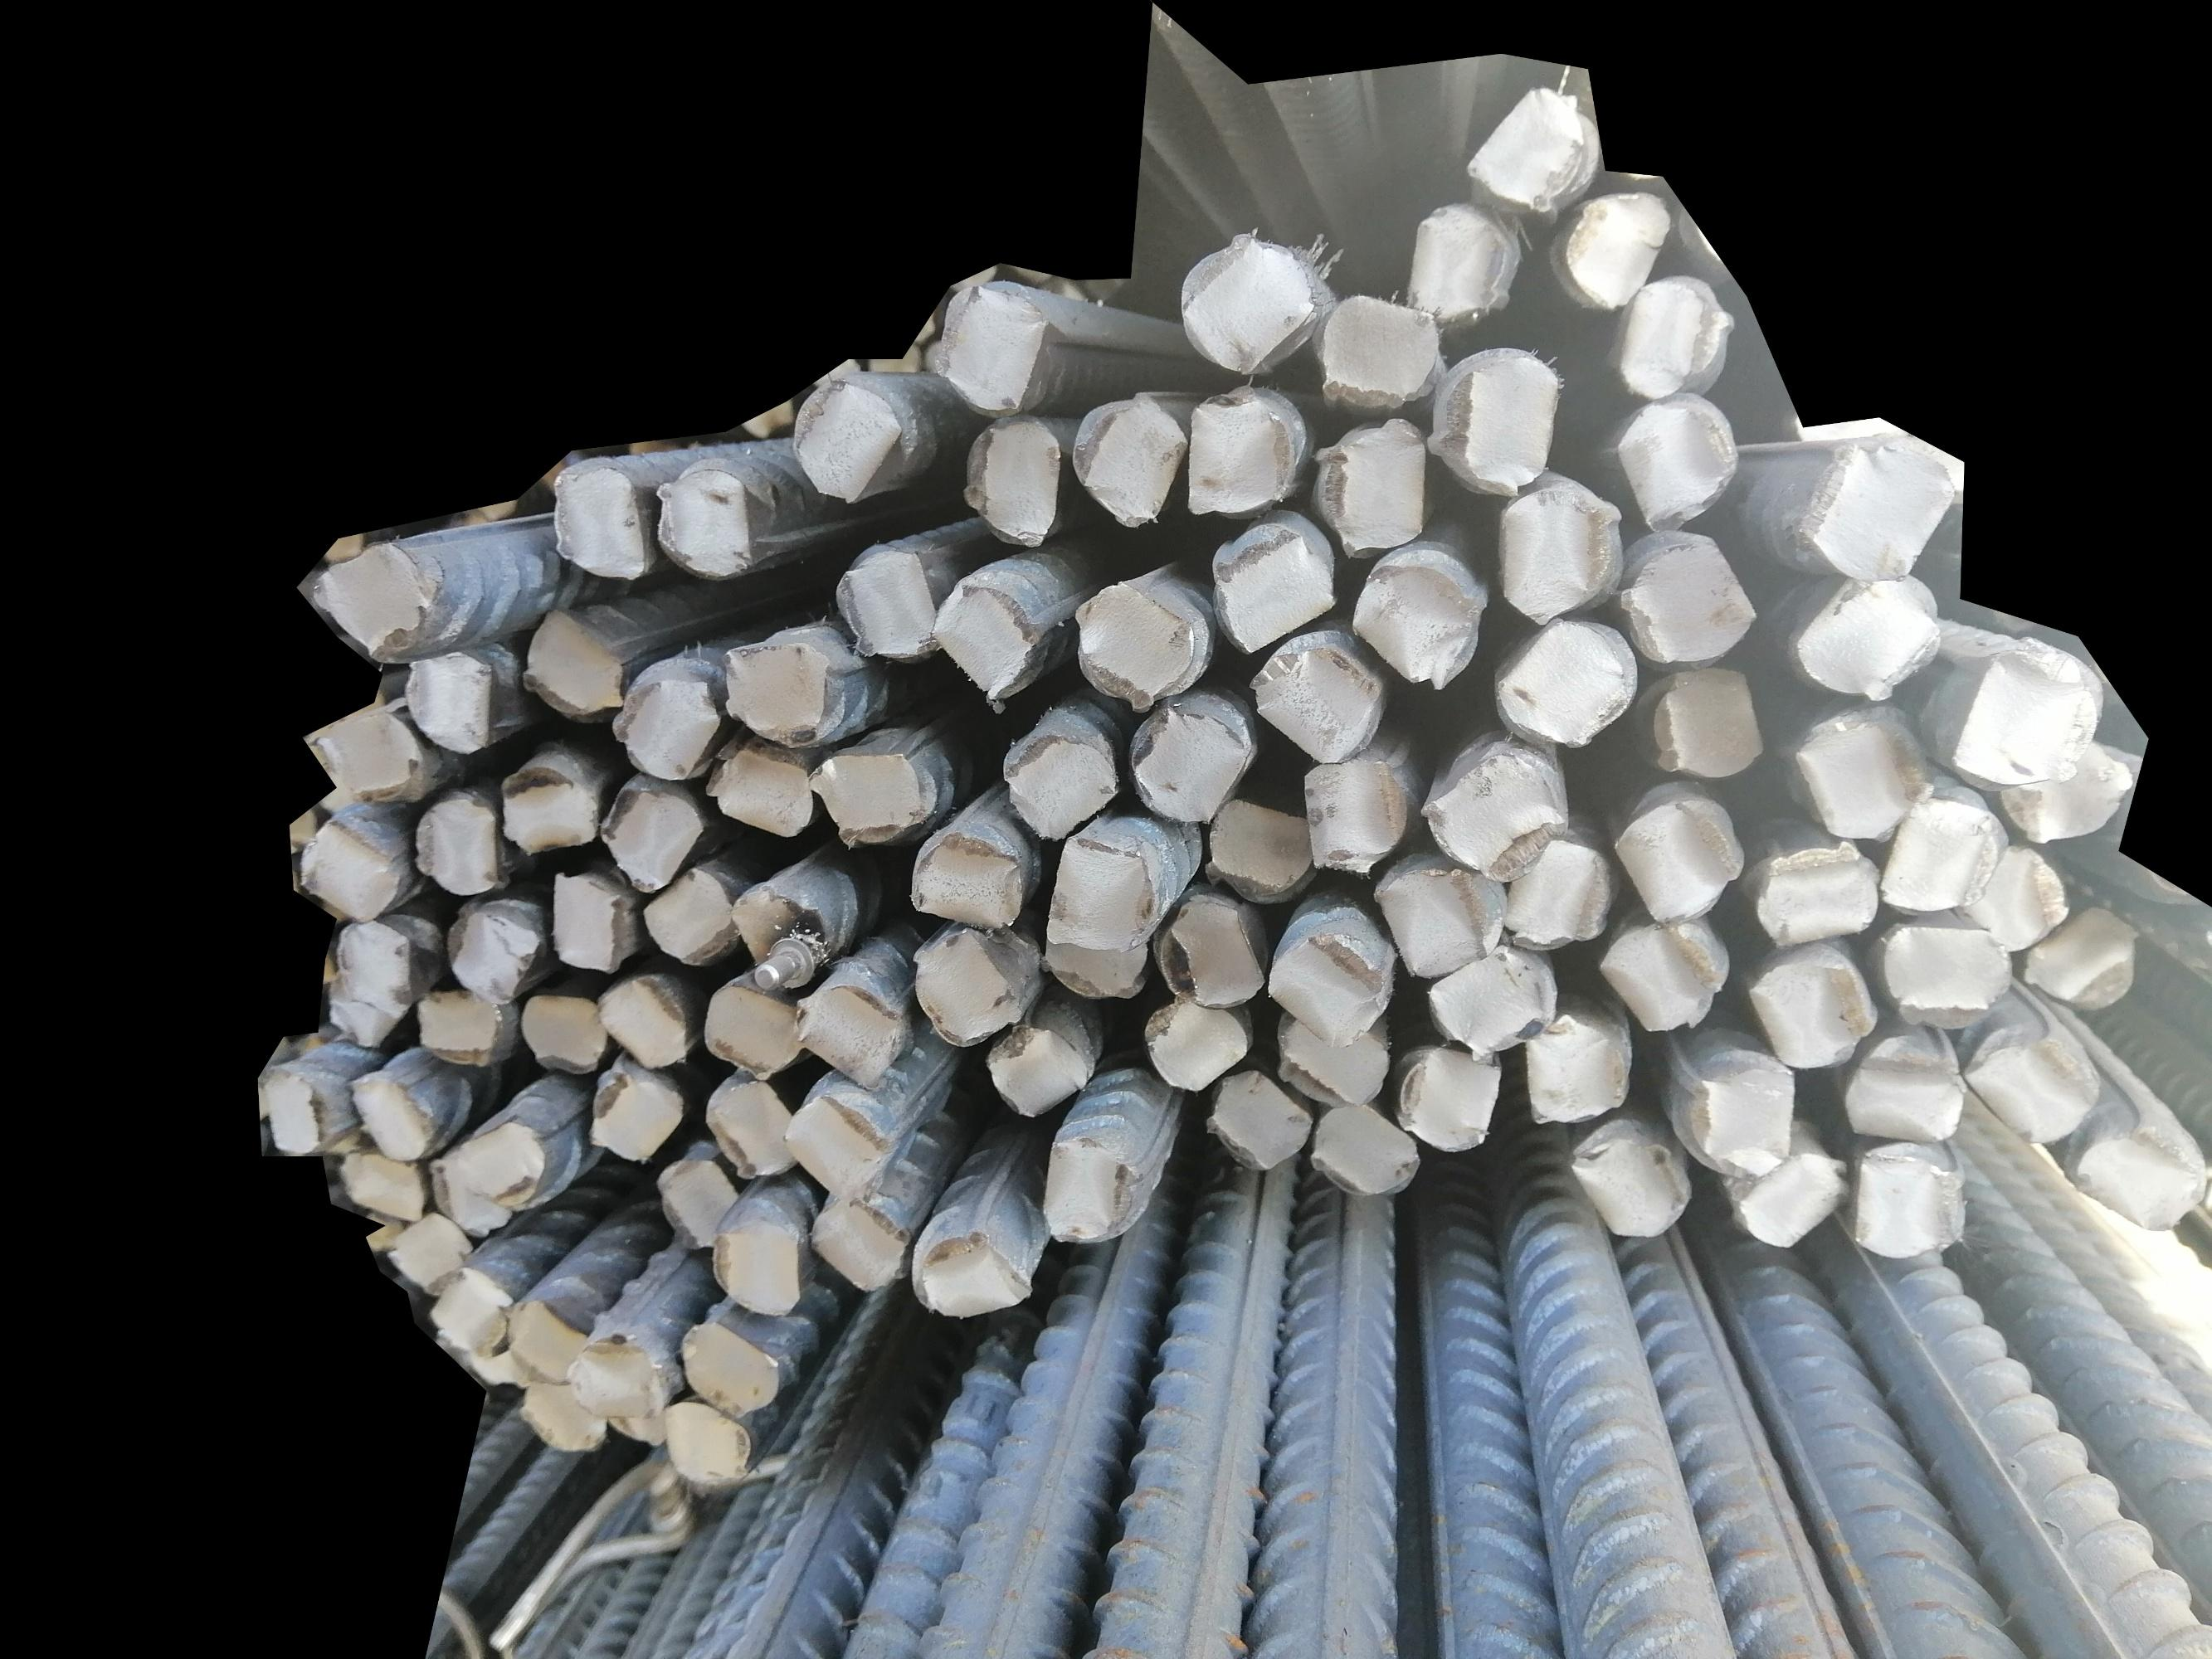bar: (1802, 418, 1954, 589), (1938, 631, 2100, 788), (1785, 695, 1933, 849), (1424, 737, 1571, 882), (1171, 223, 1313, 373), (1792, 570, 1944, 706), (1429, 347, 1564, 497), (1201, 519, 1342, 657), (1618, 533, 1759, 667), (1494, 615, 1637, 746), (1497, 479, 1618, 631), (1747, 945, 1883, 1077), (1959, 1019, 2104, 1143), (2064, 1117, 2210, 1239), (1595, 904, 1729, 1037), (1879, 781, 2008, 918), (1368, 856, 1515, 976), (1461, 85, 1595, 216), (1307, 415, 1435, 552), (906, 918, 1035, 1051), (1349, 556, 1478, 688), (1612, 789, 1741, 920), (1874, 915, 2010, 1039), (934, 275, 1048, 423), (1618, 392, 1736, 533), (1123, 692, 1243, 829), (307, 532, 432, 662), (1074, 579, 1199, 709), (1745, 831, 1884, 948), (1039, 824, 1163, 955), (2025, 896, 2156, 1019), (1314, 284, 1435, 418), (1839, 1143, 1973, 1262), (1070, 387, 1184, 526), (1571, 1115, 1693, 1244), (1265, 924, 1389, 1049), (1252, 640, 1379, 762), (1680, 1047, 1797, 1178), (790, 369, 901, 504), (1177, 385, 1288, 519), (1517, 1009, 1639, 1129), (1424, 943, 1558, 1051), (1560, 185, 1680, 305), (994, 723, 1119, 838), (2015, 735, 2142, 849), (964, 415, 1069, 549), (1839, 1047, 1968, 1155), (1499, 829, 1614, 950), (1150, 896, 1272, 1009), (929, 577, 1037, 704), (1647, 660, 1762, 777), (1614, 275, 1717, 404), (901, 1220, 1030, 1321), (610, 659, 720, 777), (793, 979, 910, 1089), (596, 779, 706, 894), (1306, 756, 1410, 877), (1726, 1143, 1848, 1246), (657, 462, 758, 586), (722, 640, 837, 748), (1964, 836, 2067, 957), (553, 450, 648, 579), (1199, 795, 1314, 901), (1412, 197, 1508, 324), (805, 742, 919, 849), (1394, 1037, 1501, 1150), (1042, 1133, 1147, 1248), (837, 542, 940, 659), (1267, 1009, 1389, 1107), (1201, 1061, 1313, 1168), (910, 829, 1028, 929), (519, 608, 626, 718), (1307, 1100, 1421, 1202), (779, 1089, 887, 1194), (410, 784, 502, 901), (702, 972, 798, 1084), (640, 863, 744, 964), (300, 816, 399, 922), (730, 882, 828, 990), (493, 760, 596, 861), (314, 709, 422, 805), (1142, 993, 1250, 1089), (675, 1319, 781, 1415), (401, 647, 492, 756), (708, 748, 818, 838), (1039, 913, 1149, 1004), (546, 870, 638, 976), (704, 1070, 793, 1180), (591, 972, 689, 1072), (990, 1019, 1093, 1114), (812, 1195, 906, 1295), (343, 1063, 436, 1162), (709, 1216, 800, 1317), (659, 1398, 755, 1492), (587, 1068, 680, 1166), (560, 1333, 666, 1417), (443, 901, 539, 992), (324, 910, 408, 1012), (455, 1114, 544, 1209), (500, 1290, 589, 1385), (258, 1060, 336, 1164), (657, 1147, 734, 1253), (417, 1267, 511, 1352), (411, 988, 511, 1068), (521, 986, 607, 1077), (383, 1209, 471, 1297), (427, 1148, 511, 1237), (342, 1141, 427, 1225), (512, 1382, 610, 1452), (314, 979, 403, 1051), (607, 1387, 671, 1457)
